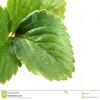Strawberry leaf: (12, 9, 76, 84)
